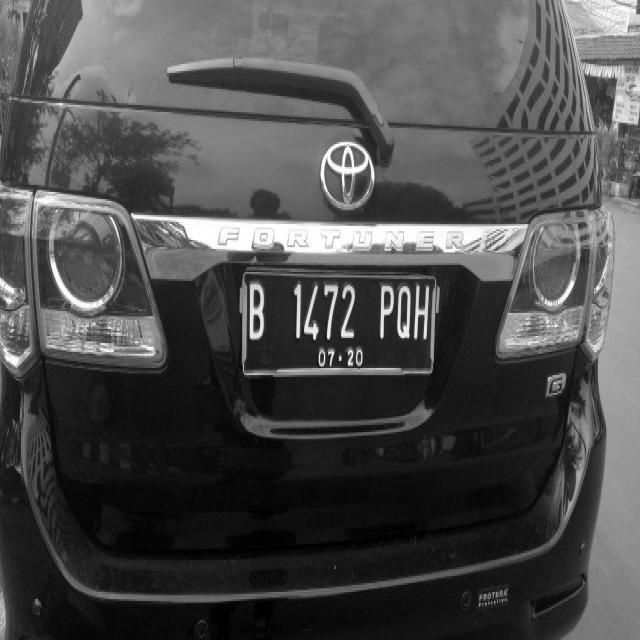clone-license-plate: (242, 272, 434, 382)
